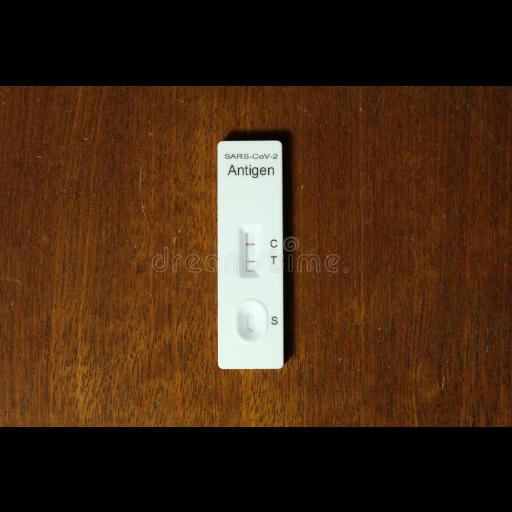Pos: (218, 136, 282, 366)
